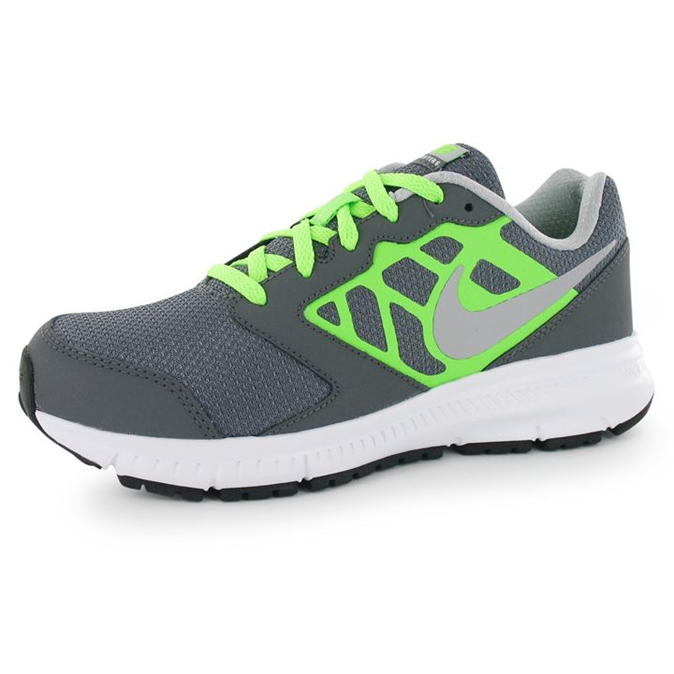nike: (433, 239, 621, 368)
